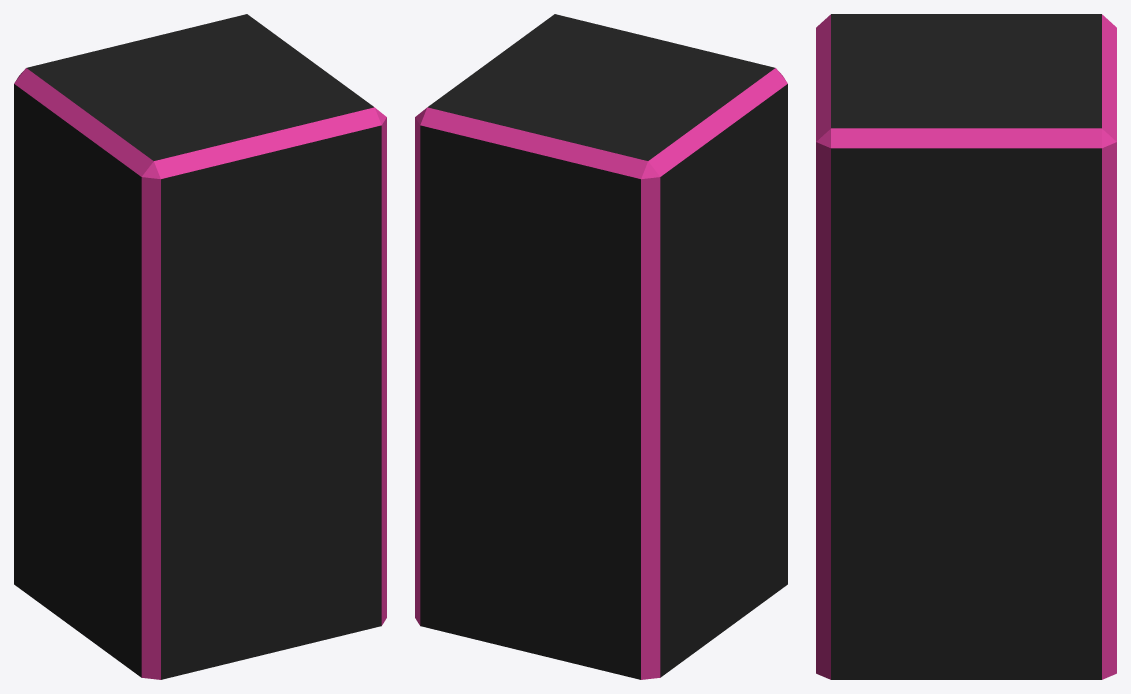
Rendered from Block1.fbx.
3 views of the same model, side by side, from view 1: azimuth 30°, elevation 25°; view 2: azimuth 150°, elevation 25°; view 3: azimuth 270°, elevation 25° (orthographic). The views are drawn at different scales.
Visible parts, largest first — view 1: polySurface12; view 2: polySurface12; view 3: polySurface12.
Boxes of the visible parts, x1,y1,x2,y2 form: polySurface12: (14,14,386,679); polySurface12: (415,14,787,679); polySurface12: (816,14,1116,679).
Size of the model in its own units: 5 by 10 by 5.
